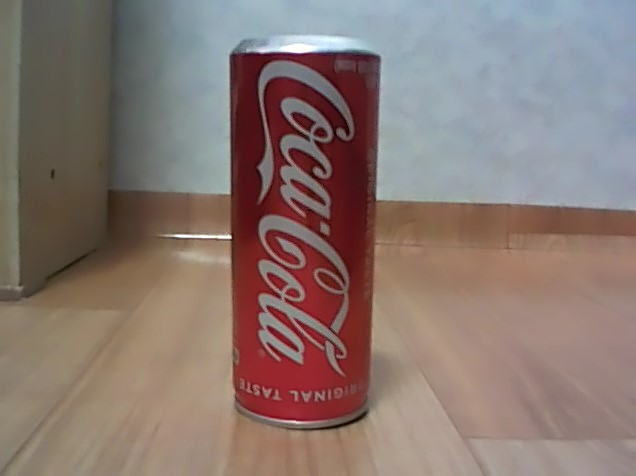Can: (223, 27, 386, 434)
